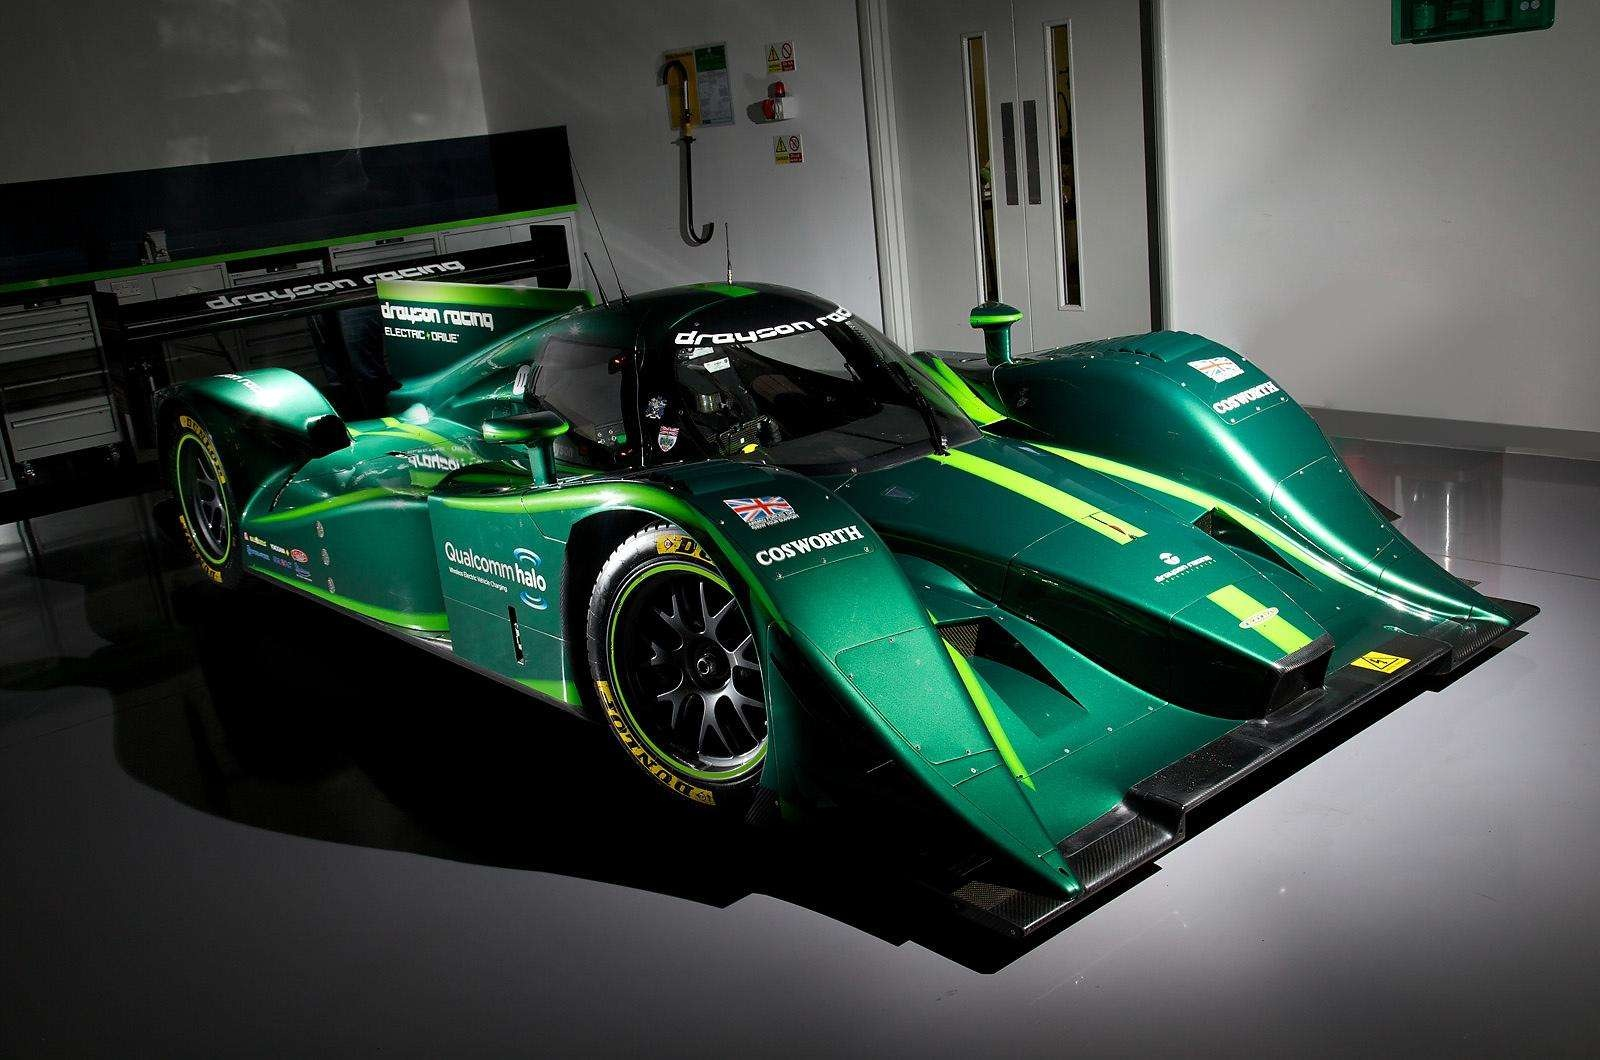racing car: (136, 214, 1497, 924)
